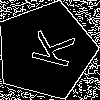K: (21, 26, 76, 70)
